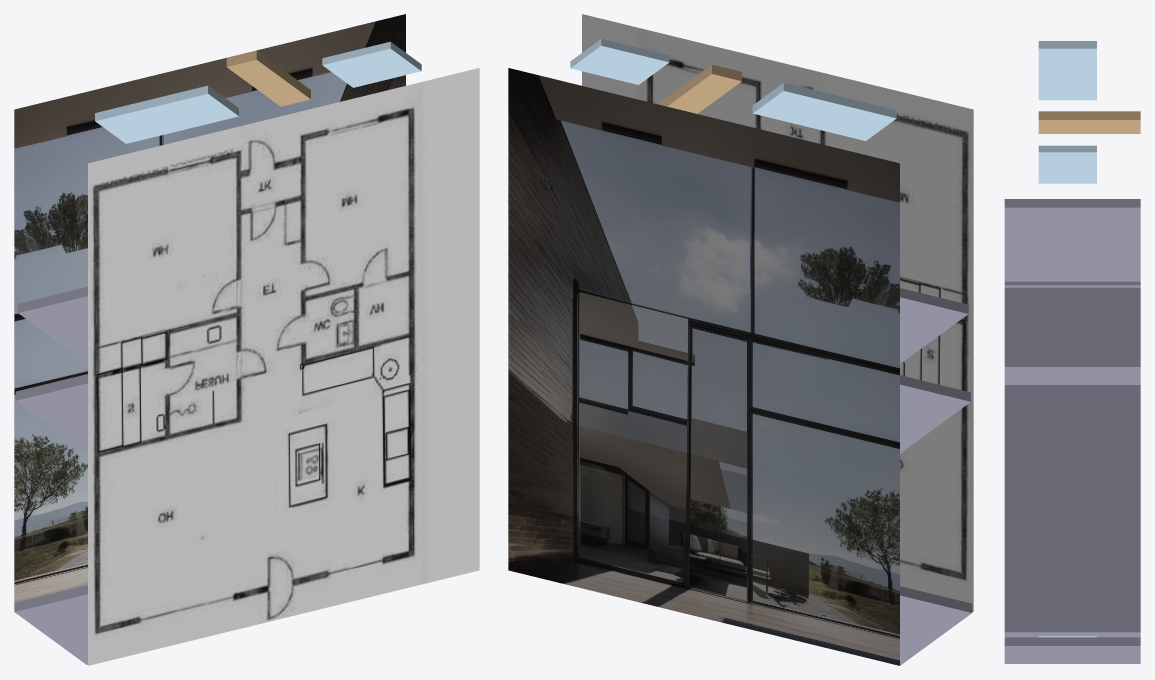
The model's file is sample3.gltf.
The picture shows the model from 3 angles, left to right: view 1: azimuth 30°, elevation 25°; view 2: azimuth 150°, elevation 25°; view 3: azimuth 270°, elevation 25°; orthographic projection. The views are drawn at different scales.
Visible parts, largest first — view 1: FloorPlan, InteriorFloor, sample3; view 2: InteriorFloor, FloorPlan, sample3; view 3: sample3.
Boxes of the visible parts, x1,y1,x2,y2 form: FloorPlan: (88,68,479,665); InteriorFloor: (14,14,405,602); sample3: (14,41,421,664); InteriorFloor: (508,68,899,665); FloorPlan: (582,14,973,611); sample3: (570,39,972,665); sample3: (1004,41,1140,663).
Bounding box in the file's own units: 8.76 × 10.74 × 2.85.
3 materials, 2 textured.
